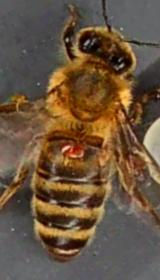varroa_mite: (61, 139, 87, 165)
